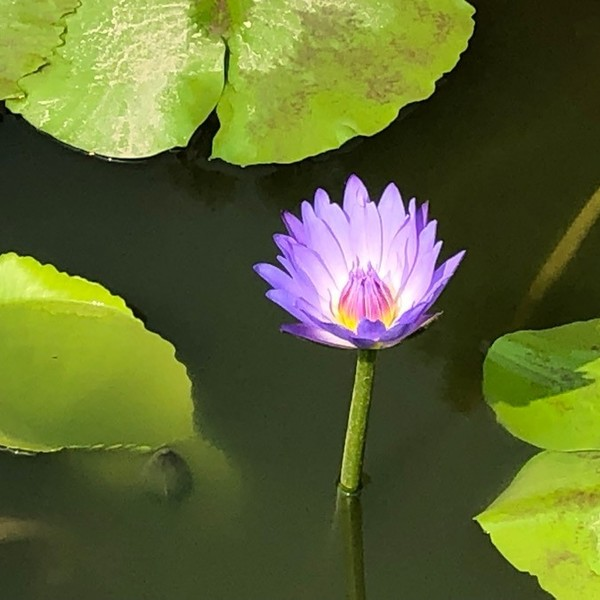obstacle: (257, 166, 448, 531)
